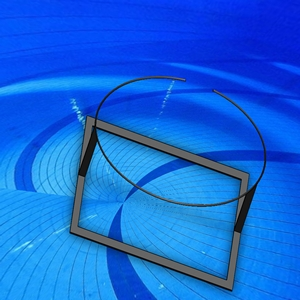circle: (68, 76, 268, 294)
